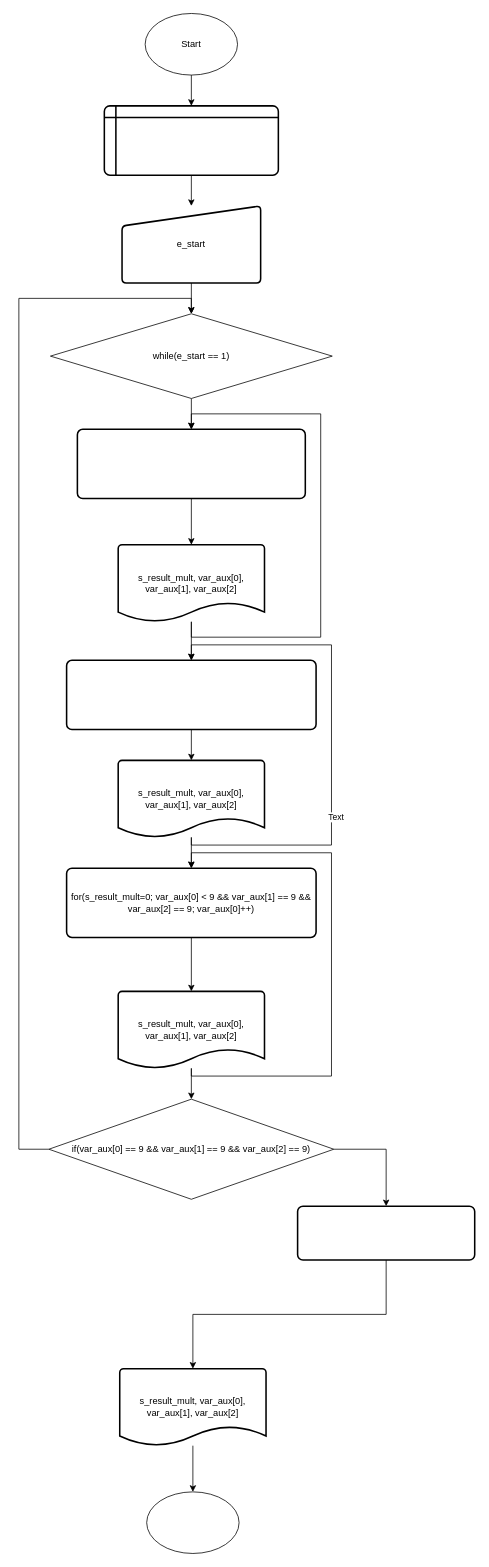
Some shapes in this 489 by 1567 pixel diagram are drawn without their labels. Each missing label, with the centre of its shape:
e_start, var_aux[3], s_result_mult: the point at 191,140
End: the point at 192,1522
for(s_result_mult=0;var_aux[1] < 9 && var_aux[2] == 9; var_aux[1]++): the point at 190,694
for(s_result_mult=0;var_aux[2] < 9; var_aux[2]++): the point at 191,463
s_result_mult = var_aux[0]*var_aux[1]*var_aux[2] e_start = 0: the point at 385,1232
